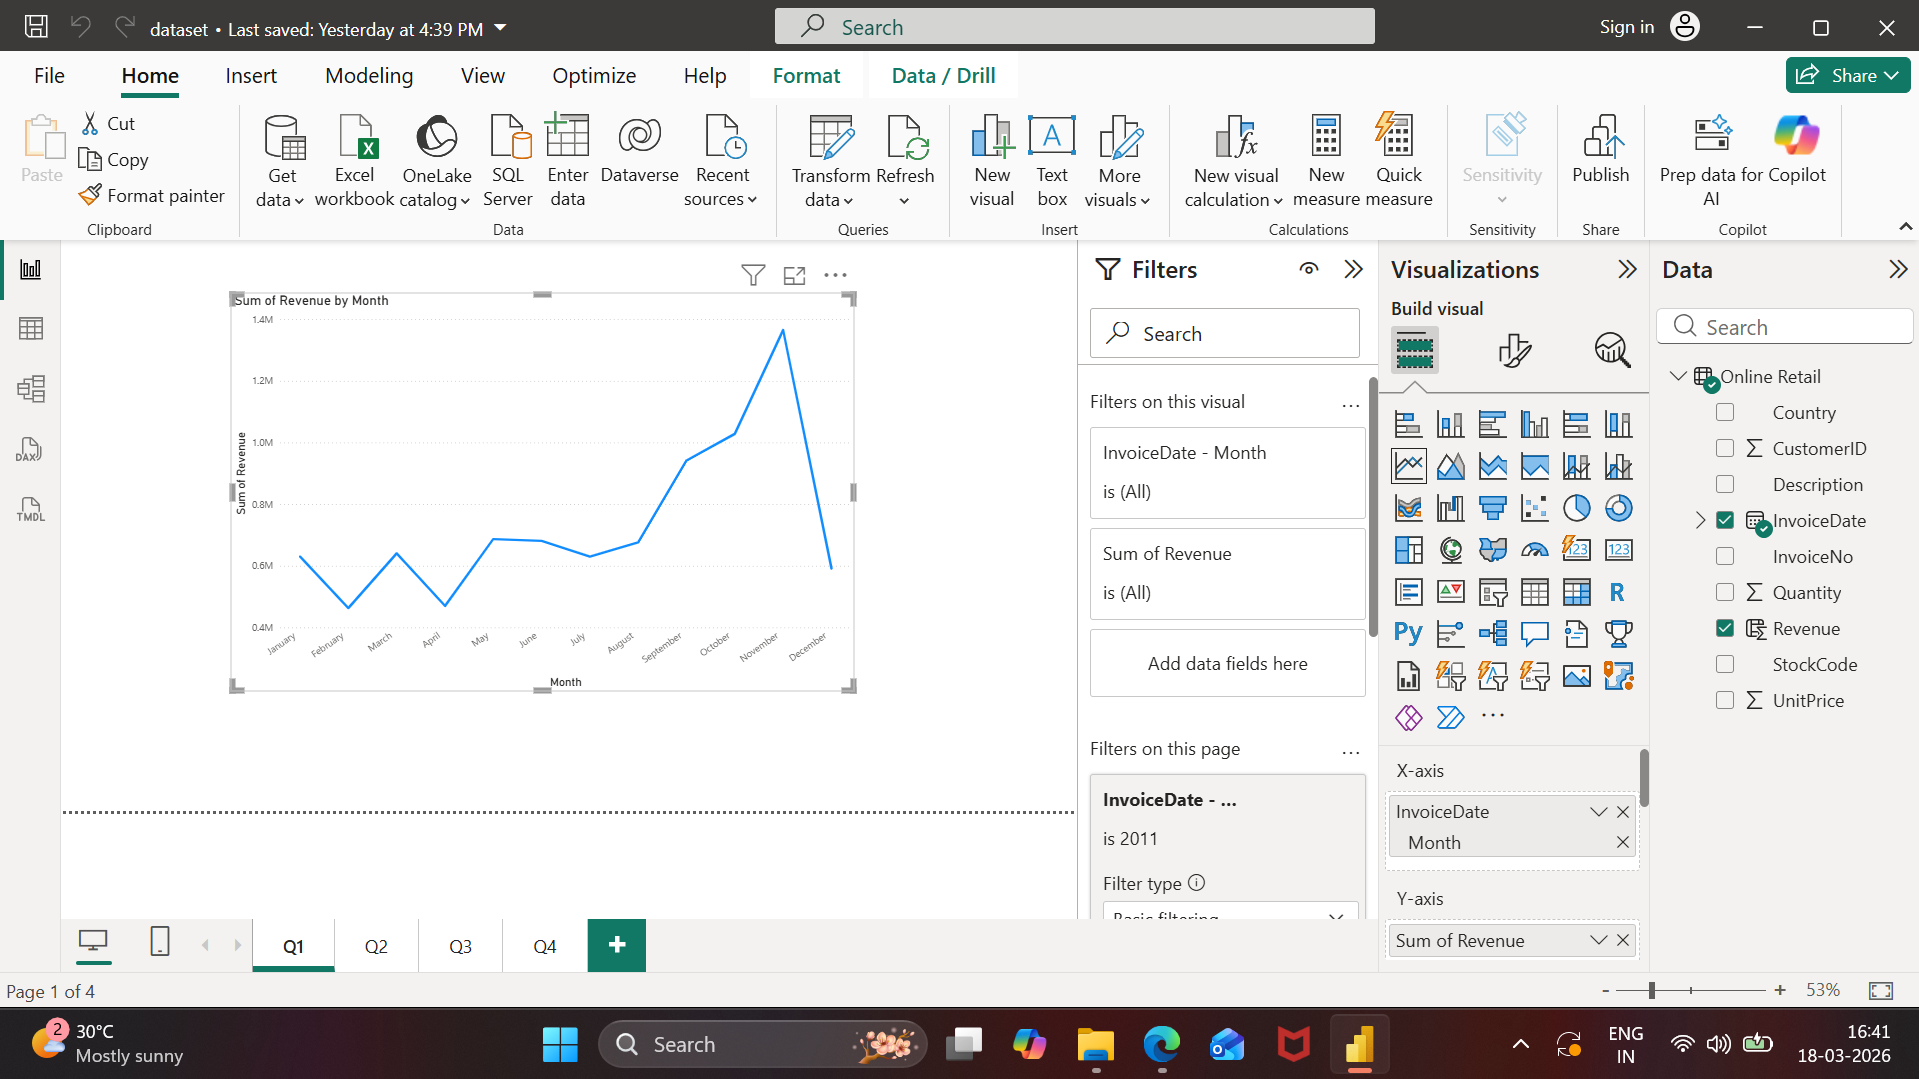

What the dashboard file says about the page in this screenshot:
{"tool":"powerbi","page":{"name":"Q1","canvas":[1280,720],"ordinal":0},"visuals":[{"type":"lineChart","fields":{"Category":["Online Retail.InvoiceDate.Variation.Date Hierarchy.Month"],"Y":["Sum(Online Retail.Revenue)"]},"box":[213.5,66.1,786.1,502.7],"z":0}]}

Visuals, with their boxes on the page's 1280x720 design canvas (x1, y1, x2, y2). These are canvas units, not pixel positions in the 1919x1079 screenshot, which may show the page scaled, cropped or inside an application window:
lineChart - Online Retail.InvoiceDate.Variation.Date Hierarchy.Month x Sum(Online Retail.Revenue): 214, 66, 1000, 569
